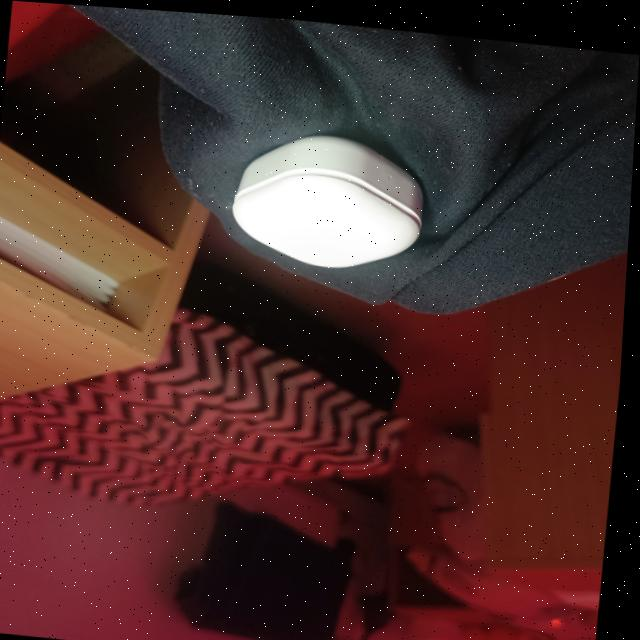headphones: (234, 130, 424, 261), (348, 147, 353, 154)
